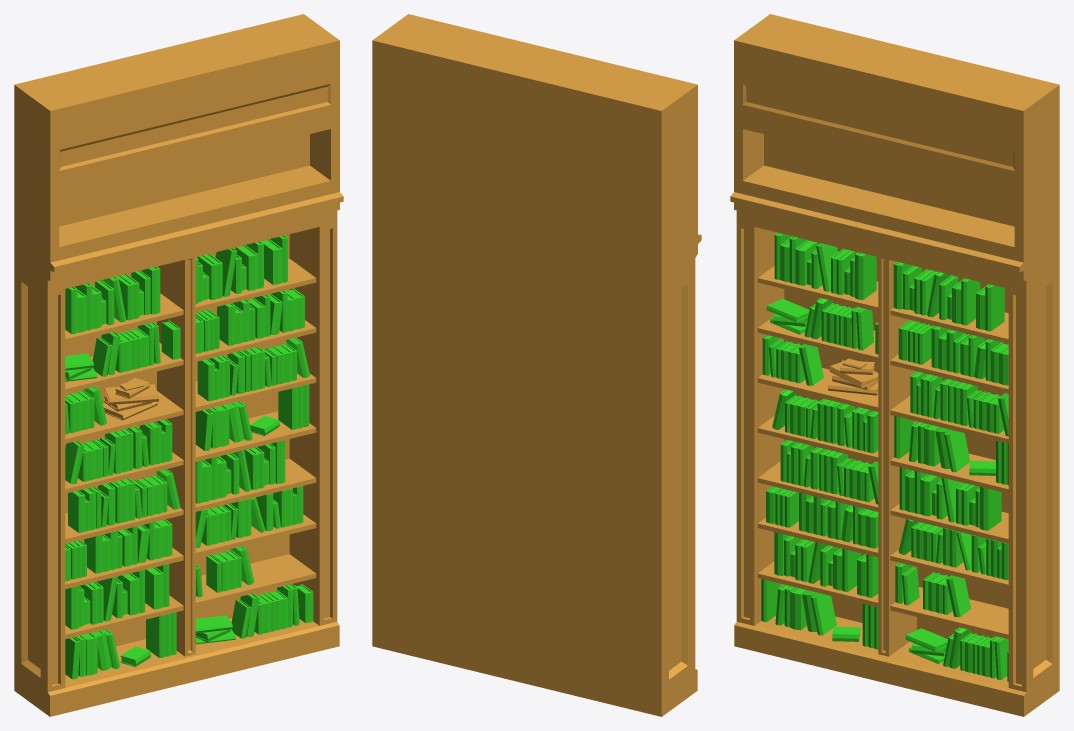
The model's file is Sm_Bookcase_Tall_Modular_Filled_2m_B.fbx.
The picture shows the model from 3 angles, left to right: view 1: azimuth 30°, elevation 25°; view 2: azimuth 150°, elevation 25°; view 3: azimuth 330°, elevation 25°; orthographic projection.
Parts seen in each view (by area): view 1: bookcase-tall-modular-filled-2m-b; view 2: bookcase-tall-modular-filled-2m-b; view 3: bookcase-tall-modular-filled-2m-b.
Boxes of the visible parts, x1,y1,x2,y2 form: bookcase-tall-modular-filled-2m-b: [14, 14, 343, 716]; bookcase-tall-modular-filled-2m-b: [372, 14, 701, 716]; bookcase-tall-modular-filled-2m-b: [730, 14, 1059, 716].
Bounding box in the file's own units: 2 × 4 × 0.4778.
